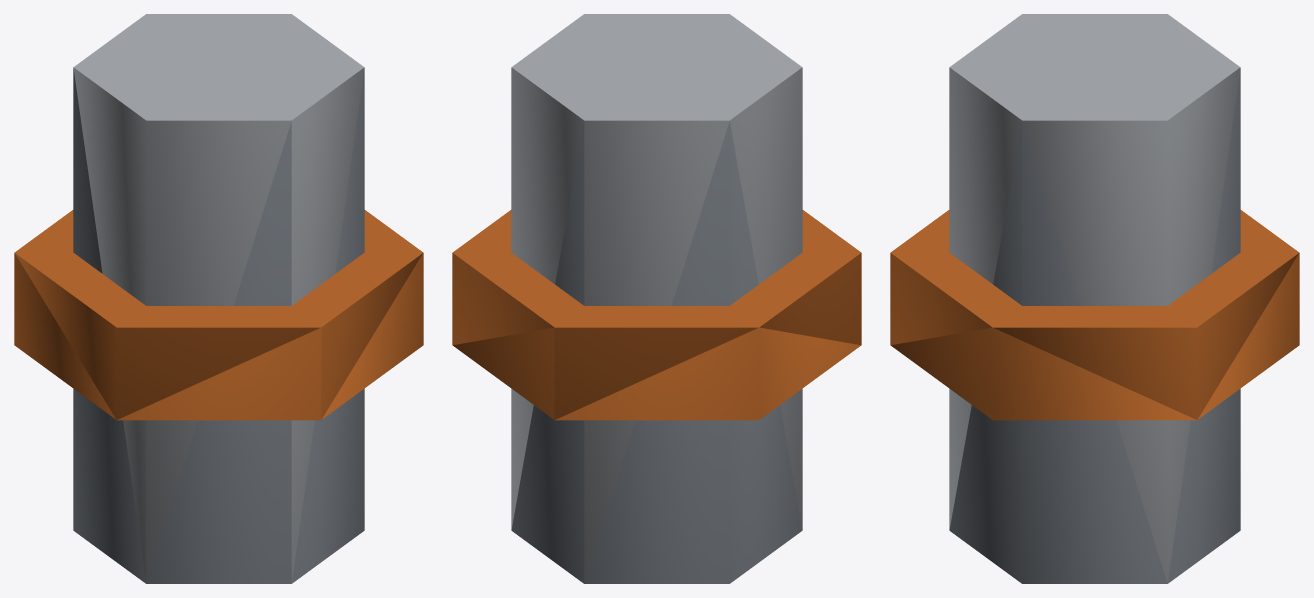
File: Kit_pipe-ring-colored.fbx
The picture shows the model from 3 angles, left to right: view 1: azimuth 30°, elevation 25°; view 2: azimuth 150°, elevation 25°; view 3: azimuth 270°, elevation 25°; orthographic projection.
Visible parts, largest first — view 1: Kit_pipe-ring-colored; view 2: Kit_pipe-ring-colored; view 3: Kit_pipe-ring-colored.
Part boxes in pixels (x1,y1,x2,y2): Kit_pipe-ring-colored: (14,14,423,583); Kit_pipe-ring-colored: (452,14,861,583); Kit_pipe-ring-colored: (890,14,1299,583).
Size of the model in its own units: 0.3464 by 0.5 by 0.4.
